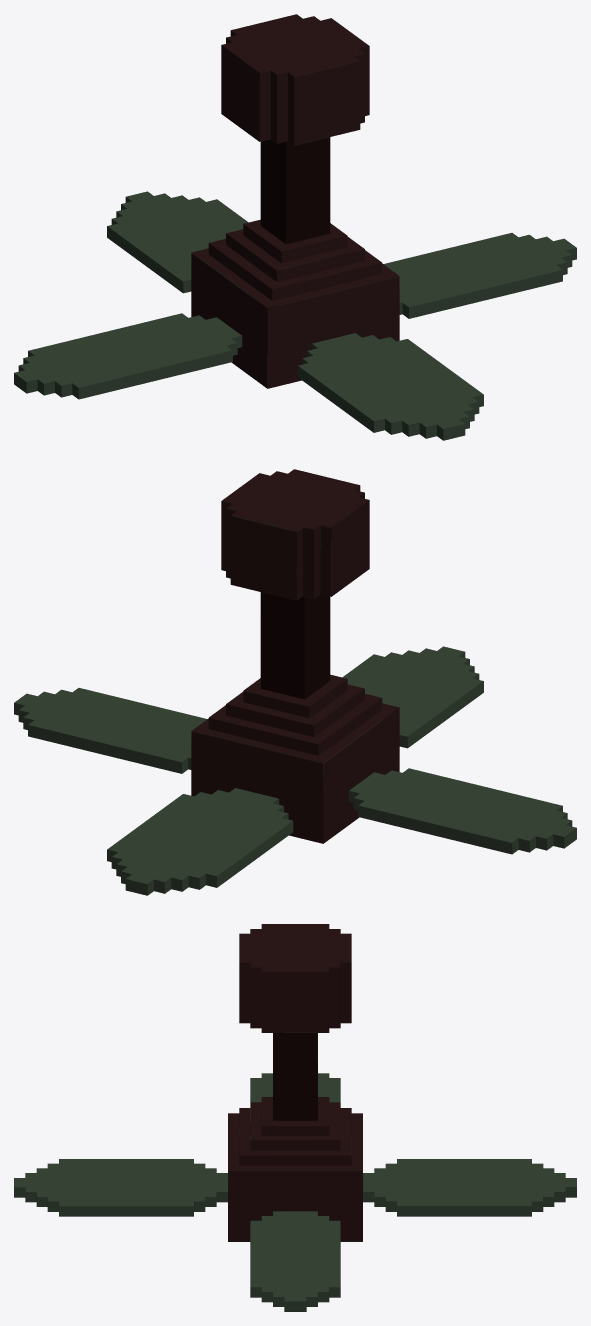
The model's file is CeilingFan_11.fbx.
3 views of the same model, one above another, from view 1: azimuth 30°, elevation 25°; view 2: azimuth 150°, elevation 25°; view 3: azimuth 270°, elevation 25° (orthographic). The views are drawn at different scales.
Visible parts, largest first — view 1: CeilingFan_11.001; view 2: CeilingFan_11.001; view 3: CeilingFan_11.001.
Part boxes in pixels (x1,y1,x2,y2): CeilingFan_11.001: (14, 14, 576, 440); CeilingFan_11.001: (14, 469, 576, 895); CeilingFan_11.001: (14, 924, 576, 1311).
Bounding box in the file's own units: 5 × 2.6 × 5.
Materials: 1 (1 with a texture image).
